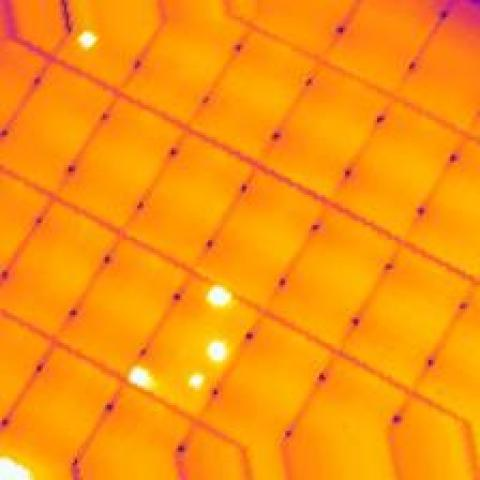fault: (199, 280, 236, 310), (202, 334, 232, 369), (126, 362, 154, 394), (73, 24, 98, 54), (182, 369, 208, 394)
